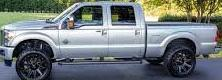Trucks: (1, 3, 220, 80)
